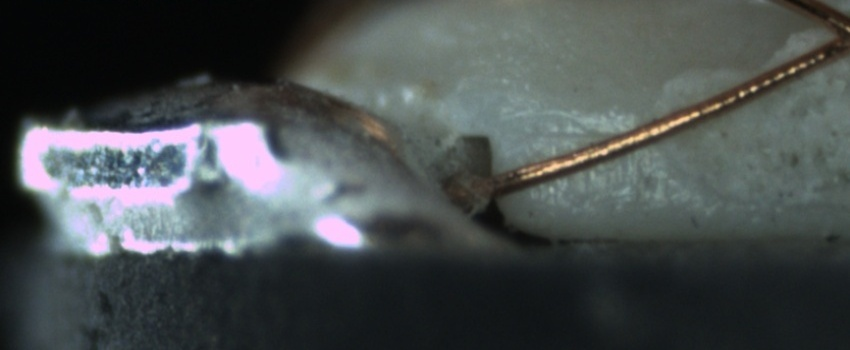CL: (803, 3, 850, 66)
DL: (525, 103, 640, 160)
